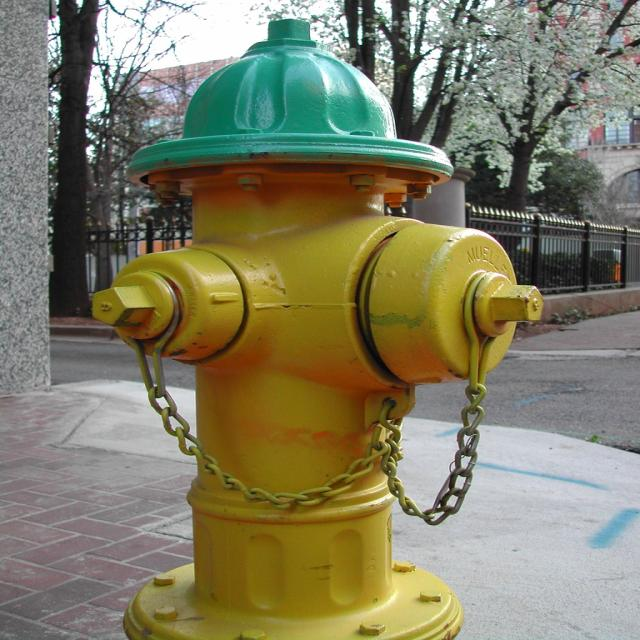fire_hydrant: (89, 21, 538, 640)
